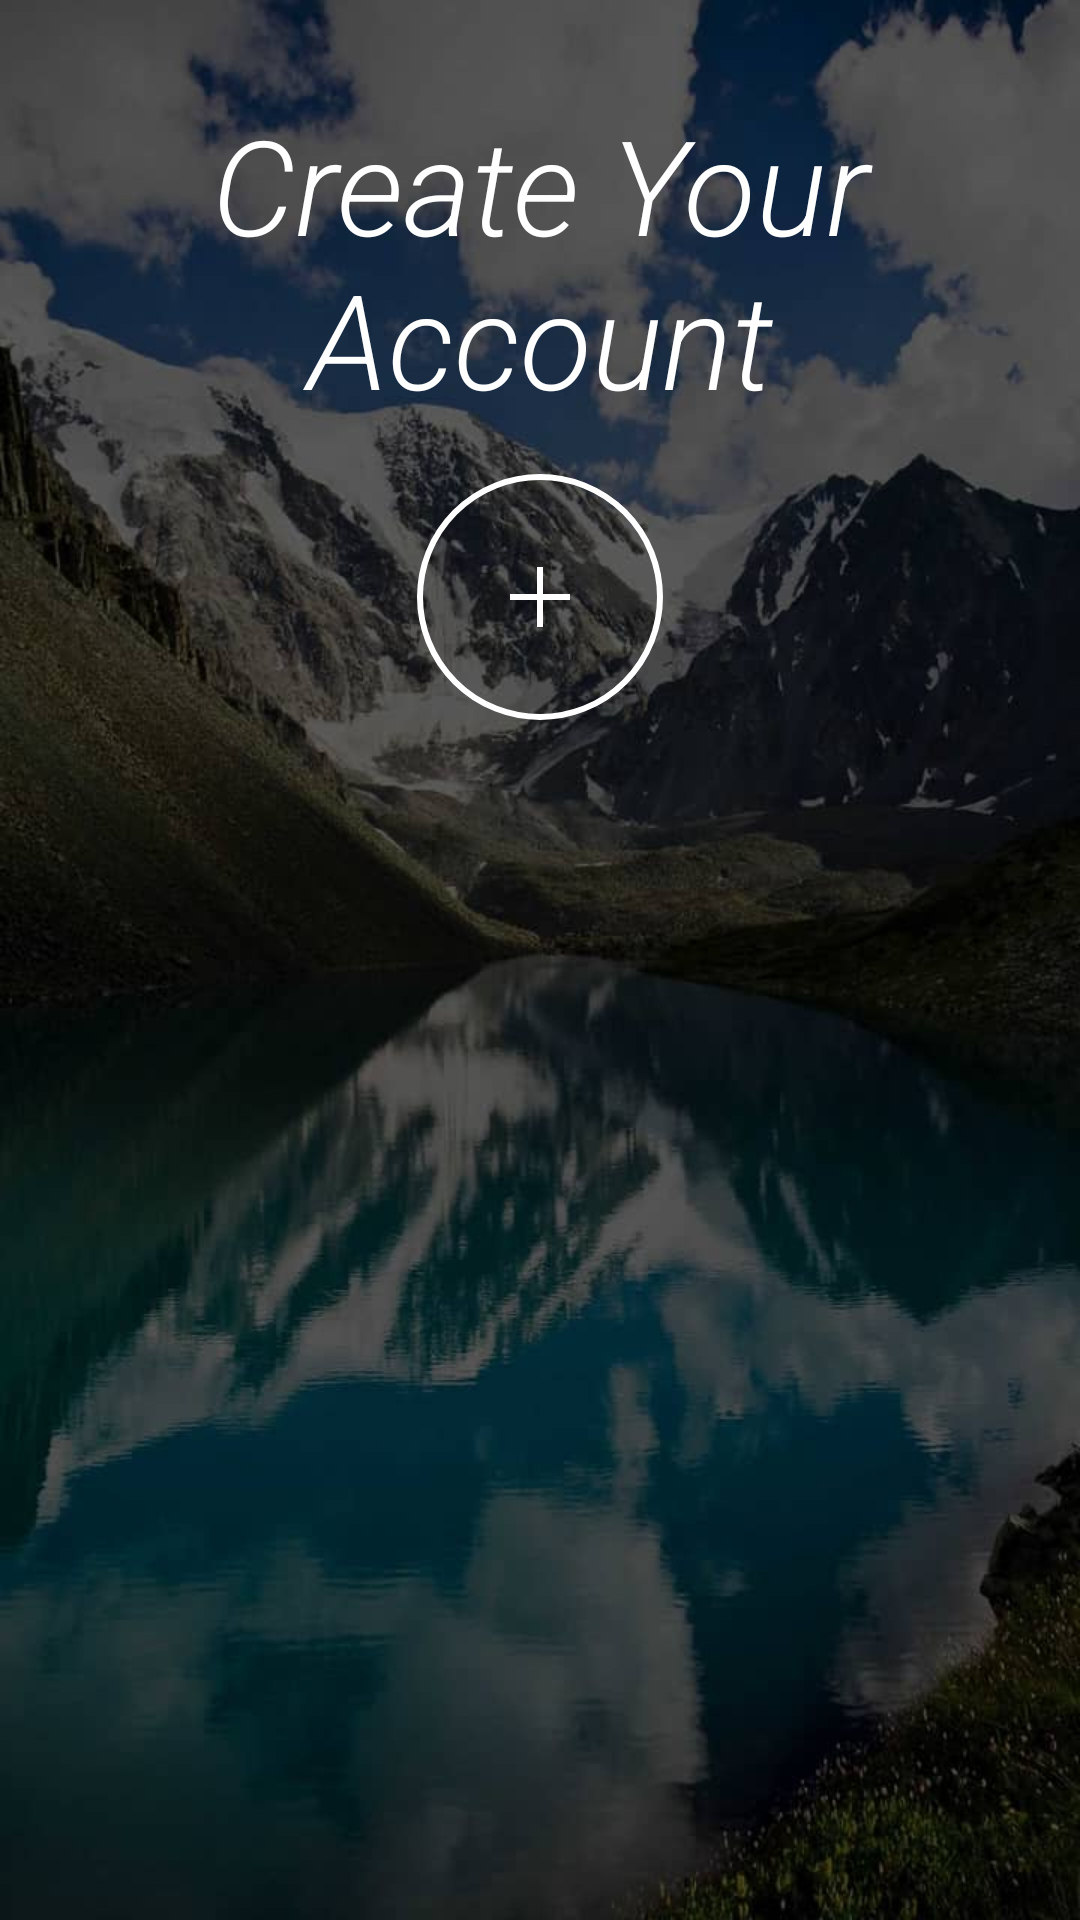

Point at icon controls on the screen. Image size 1080x1920, points as (x,y).
add: (540,597)
